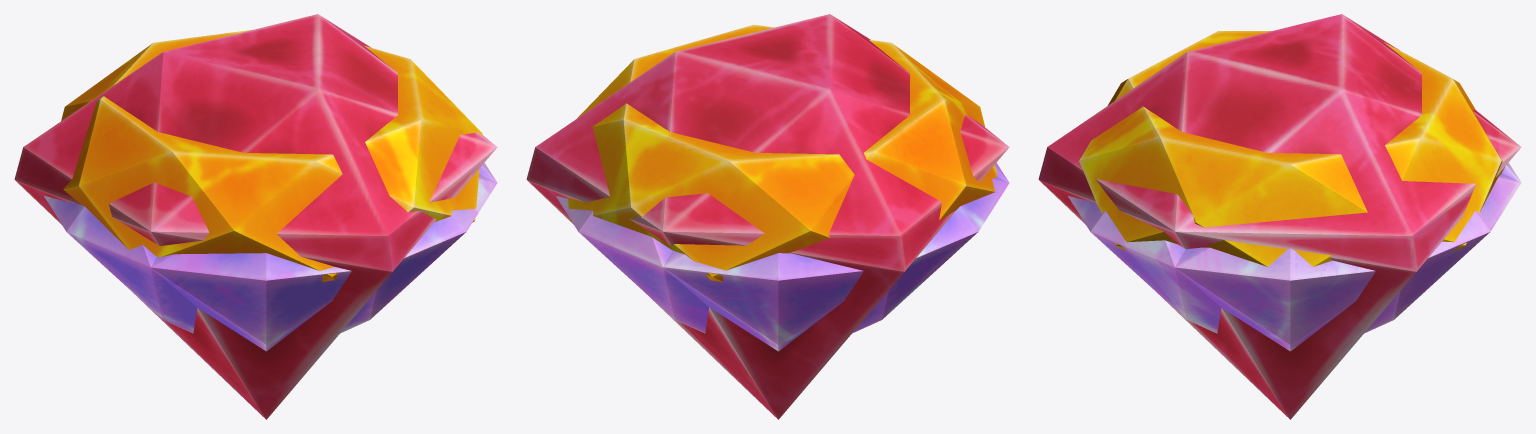
File: Diamonds.fbx
3 views of the same model, side by side, from view 1: azimuth 30°, elevation 25°; view 2: azimuth 150°, elevation 25°; view 3: azimuth 270°, elevation 25° (orthographic).
Parts seen in each view (by area): view 1: Diamond-2, Gem, Diamond-3; view 2: Diamond-2, Gem, Diamond-3; view 3: Diamond-2, Gem, Diamond-3.
Boxes of the visible parts, <box> form: Diamond-2: <box>14,14,497,419</box>; Gem: <box>61,29,482,281</box>; Diamond-3: <box>44,163,497,351</box>; Diamond-2: <box>526,14,1009,419</box>; Gem: <box>568,24,997,282</box>; Diamond-3: <box>556,163,1009,351</box>; Diamond-2: <box>1038,14,1521,419</box>; Gem: <box>1079,31,1504,266</box>; Diamond-3: <box>1068,162,1521,351</box>.
Size of the model in its own units: 1.06 by 0.9354 by 1.11.
